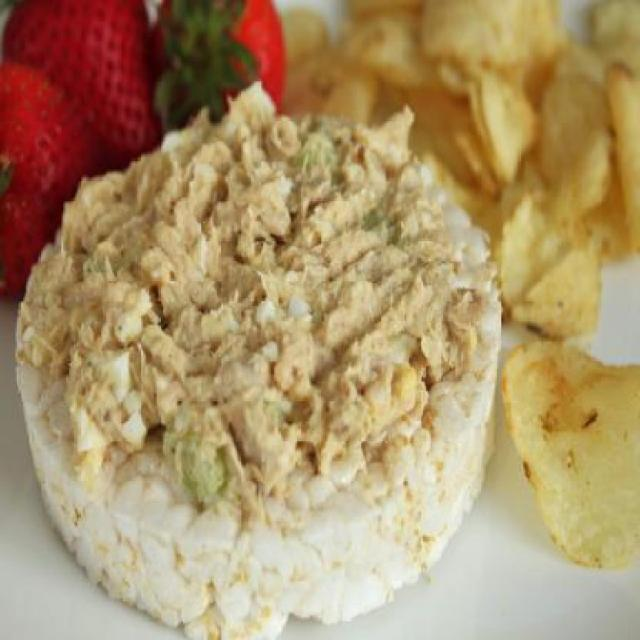Gallette di riso packaged: (14, 95, 500, 631)
